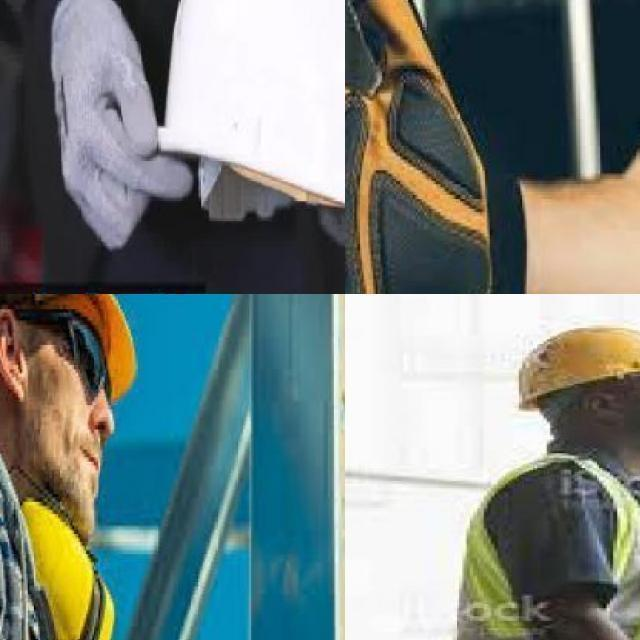apron: (345, 0, 505, 294), (48, 0, 196, 254), (0, 294, 148, 357)
